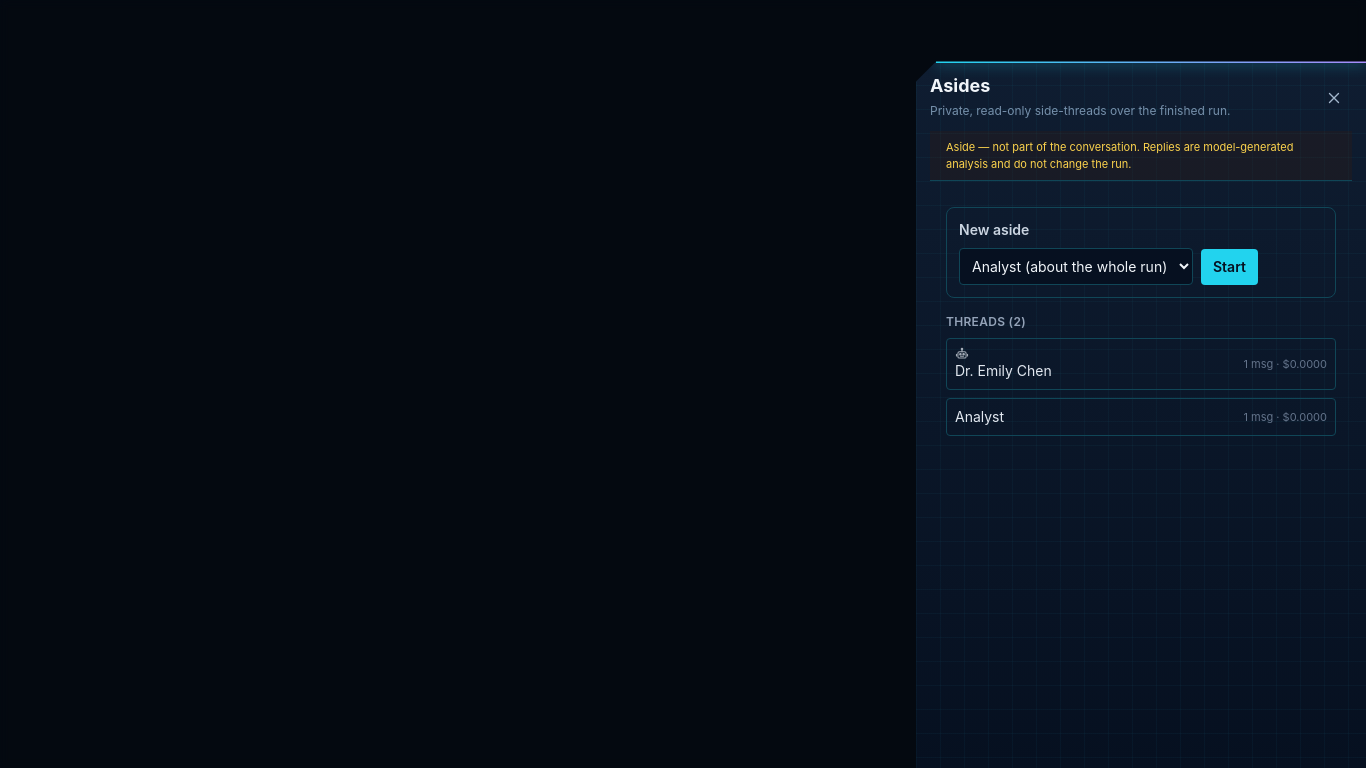
it: AsidesDrawer persona marker › marks a persona as simulated in the thread list, the thread header and on its replies; not the analyst
The width and height of the screenshot is (1366, 768).
Expected: the button "Analyst 1 msg · $0.0000" is shown, [946,398,1336,436]
Select "A persona (in character)" in the dropdown showing "Analyst (about the whole run)" at point(1076, 266), box [959,248,1193,285]
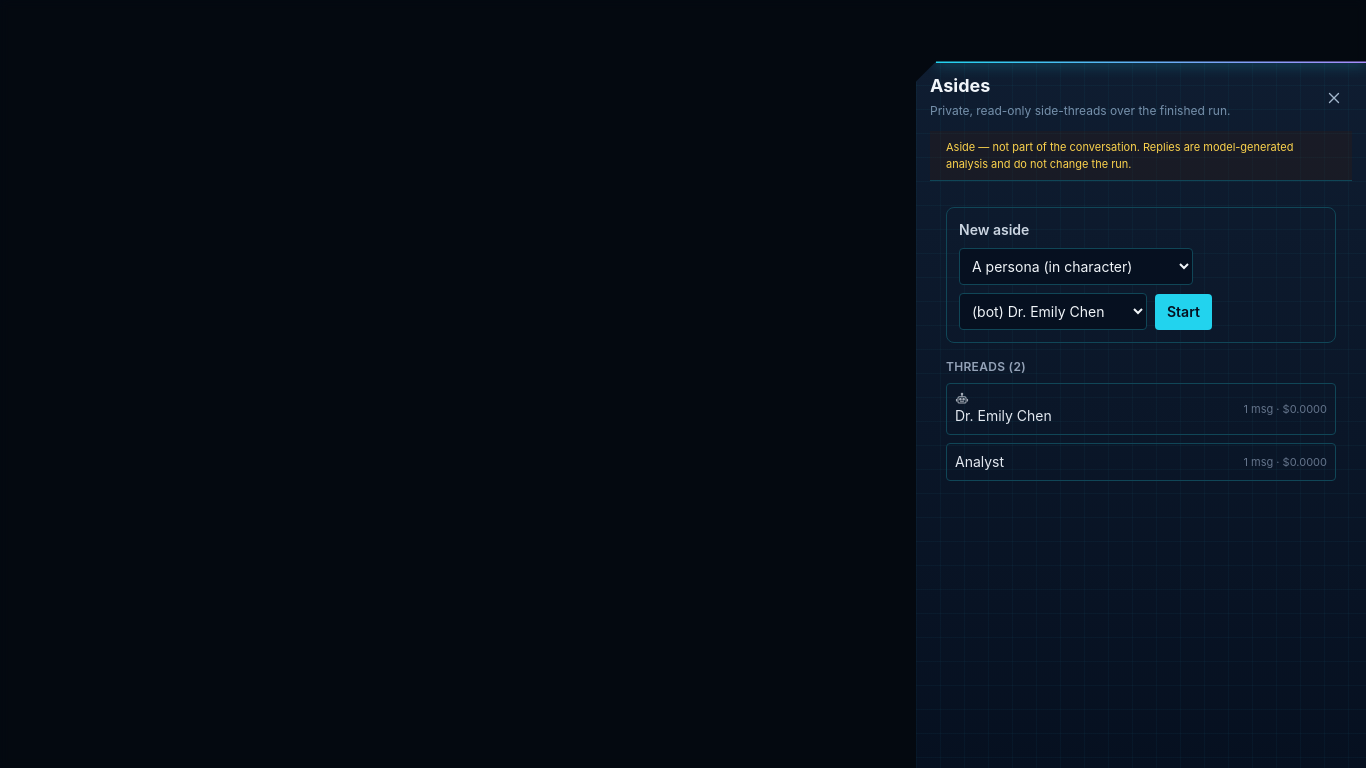
Click the button "Dr. Emily Chen 1 msg · $0.0000" at point(1003, 416), box [946,383,1336,435]
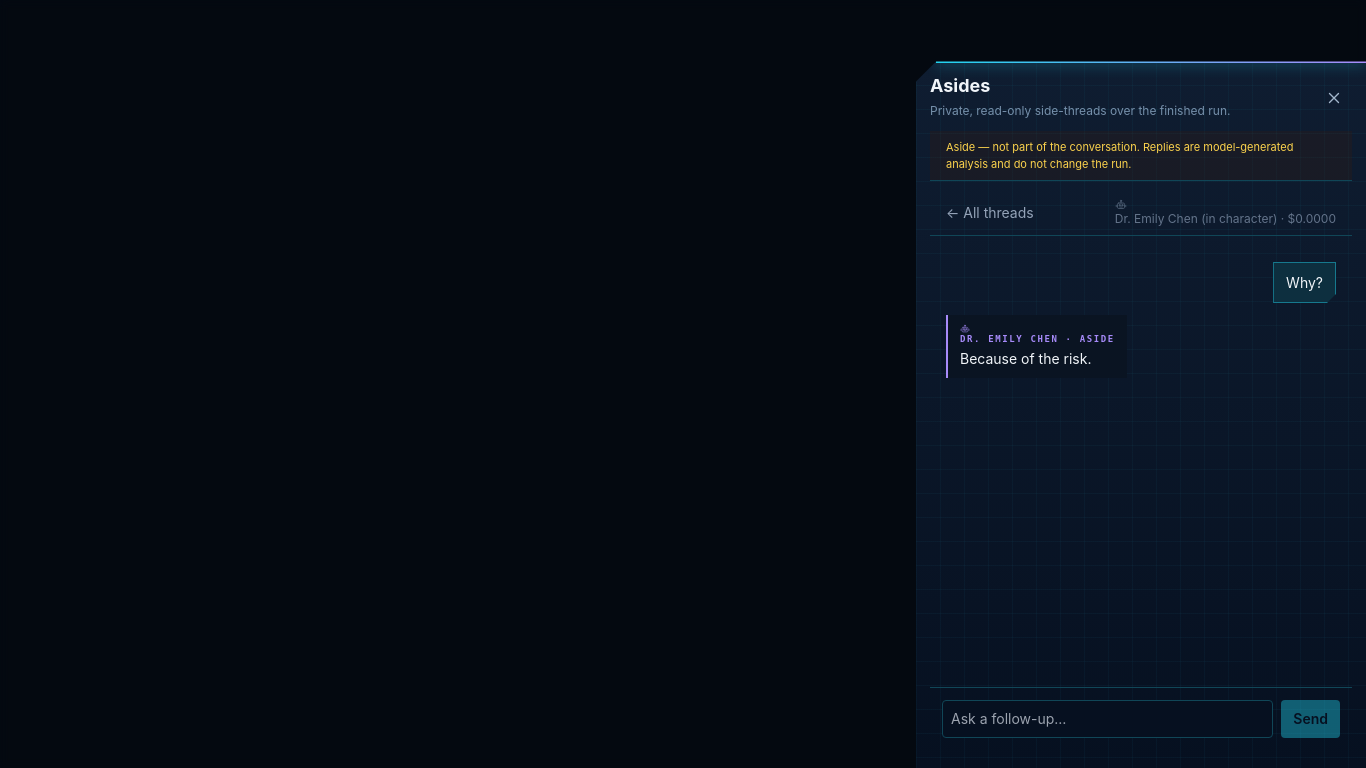
Expected: the 1st picture named "simulated persona" is shown, [1115,199,1127,211]
Expected: the text "Because of the risk." is shown, [960,350,1092,367]
